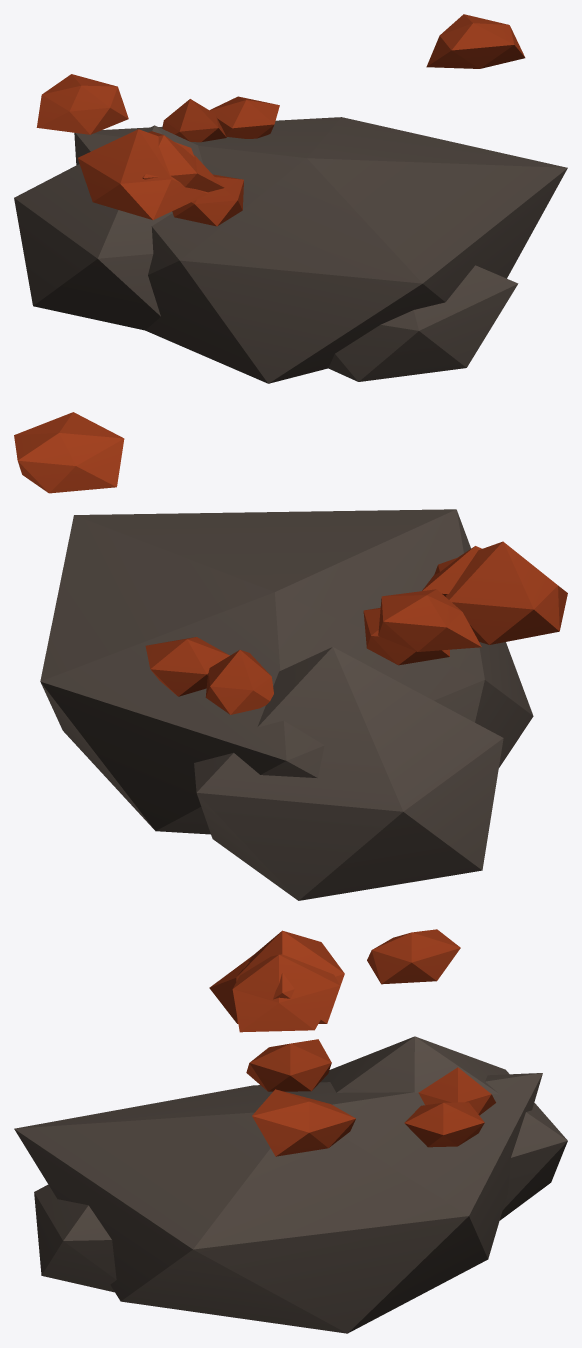
Rendered from ore0.glb.
3 views of the same model, one above another, from view 1: azimuth 30°, elevation 25°; view 2: azimuth 150°, elevation 25°; view 3: azimuth 270°, elevation 25° (orthographic). The views are drawn at different scales.
Visible parts, largest first — view 1: ore0; view 2: ore0; view 3: ore0.
Part boxes in pixels (bbox=[...]): ore0: bbox=[14, 14, 567, 383]; ore0: bbox=[14, 412, 567, 900]; ore0: bbox=[14, 929, 567, 1333].
Size of the model in its own units: 0.6512 by 0.3199 by 0.6609.
